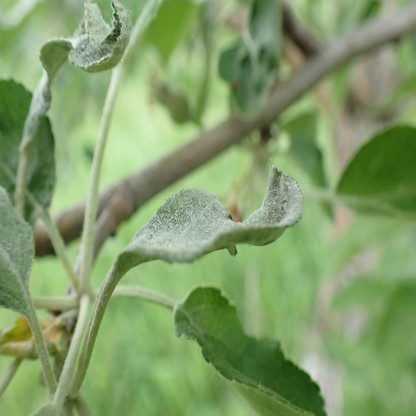powdery_mildew: (111, 161, 305, 261), (21, 0, 132, 146), (0, 189, 37, 313)
